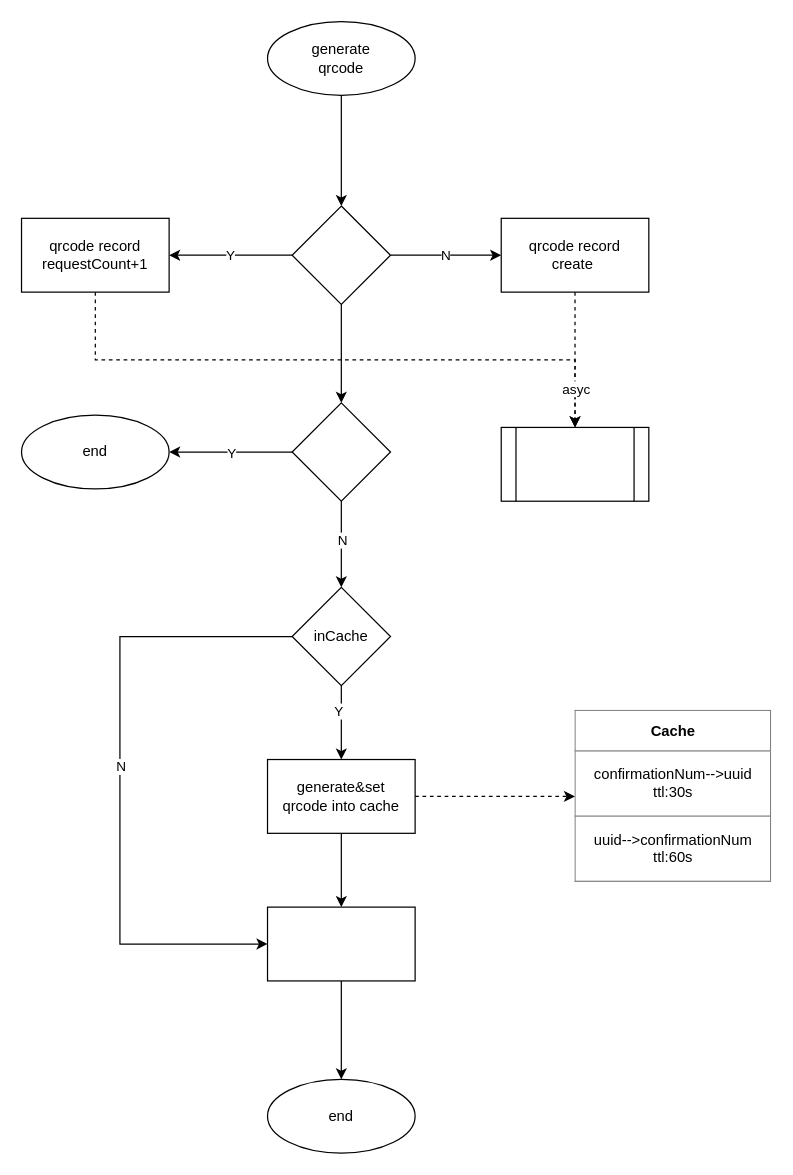
The diagram is 793 pixels wide and 1175 high, and some of its shapes have lost their labels. The box of each missing label's shape, as (x1, y1, x2, y2) in pixels:
isExist: (291, 205, 391, 304)
isReedemed: (291, 402, 391, 501)
preLoadTms: (500, 426, 649, 501)
update qrcode record: (266, 906, 415, 981)
